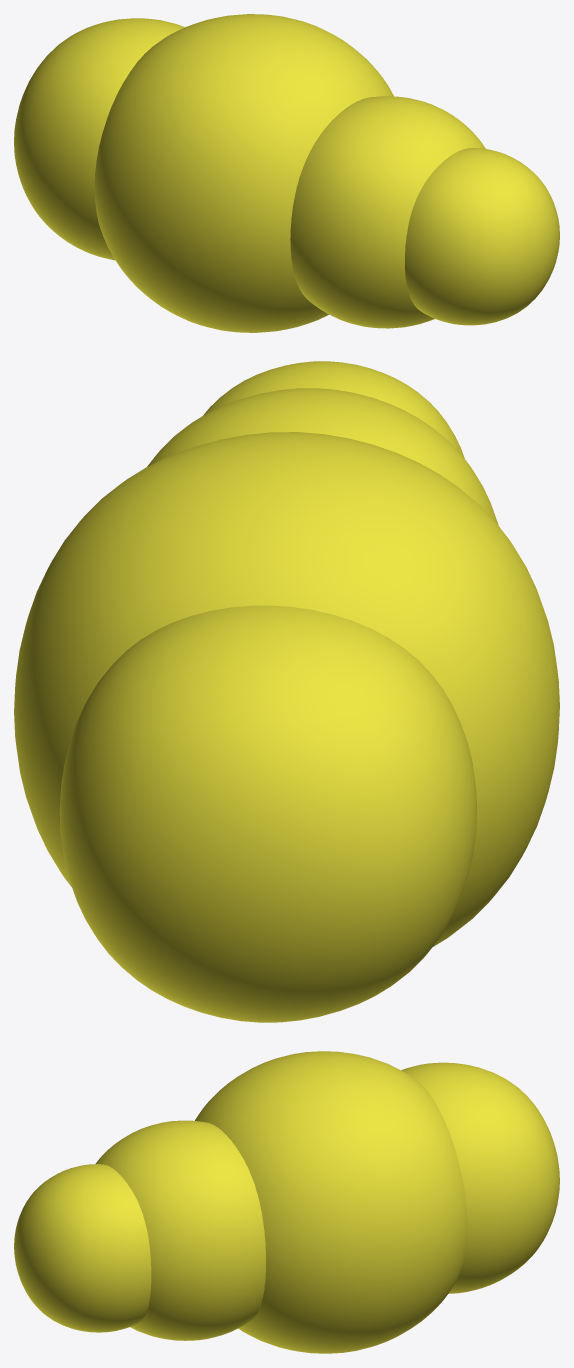
3 renders of one model, top to bottom at view 1: azimuth 30°, elevation 25°; view 2: azimuth 150°, elevation 25°; view 3: azimuth 270°, elevation 25°, orthographic. The views are drawn at different scales.
Visible parts, largest first — view 1: Cube.1429; view 2: Cube.1429; view 3: Cube.1429.
Part boxes in pixels (x1,y1,x2,y2): Cube.1429: (14, 14, 559, 332); Cube.1429: (14, 361, 559, 1022); Cube.1429: (14, 1051, 559, 1353).
Size of the model in its own units: 10.32 by 8.41 by 15.39.
Materials: 1 (1 with a texture image).
